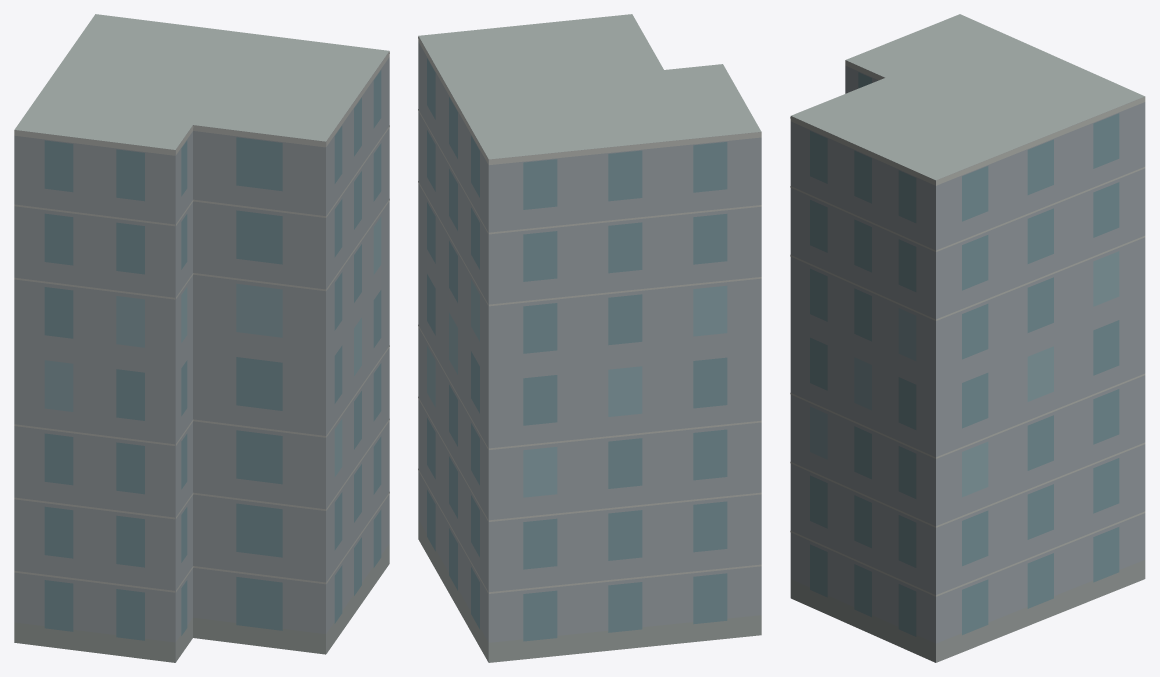
The model's file is residential-7cf01d8a-655d-47bb-83aa-2304d3ff73af.glb.
3 views of the same model, side by side, from view 1: azimuth 30°, elevation 25°; view 2: azimuth 150°, elevation 25°; view 3: azimuth 270°, elevation 25° (orthographic). The views are drawn at different scales.
Visible parts, largest first — view 1: residential-7cf01d8a-655d-47bb-83aa-2304d3ff73af.tmp; view 2: residential-7cf01d8a-655d-47bb-83aa-2304d3ff73af.tmp; view 3: residential-7cf01d8a-655d-47bb-83aa-2304d3ff73af.tmp.
Part boxes in pixels (bbox=[...]): residential-7cf01d8a-655d-47bb-83aa-2304d3ff73af.tmp: bbox=[14, 14, 389, 662]; residential-7cf01d8a-655d-47bb-83aa-2304d3ff73af.tmp: bbox=[418, 14, 761, 662]; residential-7cf01d8a-655d-47bb-83aa-2304d3ff73af.tmp: bbox=[790, 14, 1145, 662].
Bounding box in the file's own units: 15.81 × 21.35 × 14.24.
